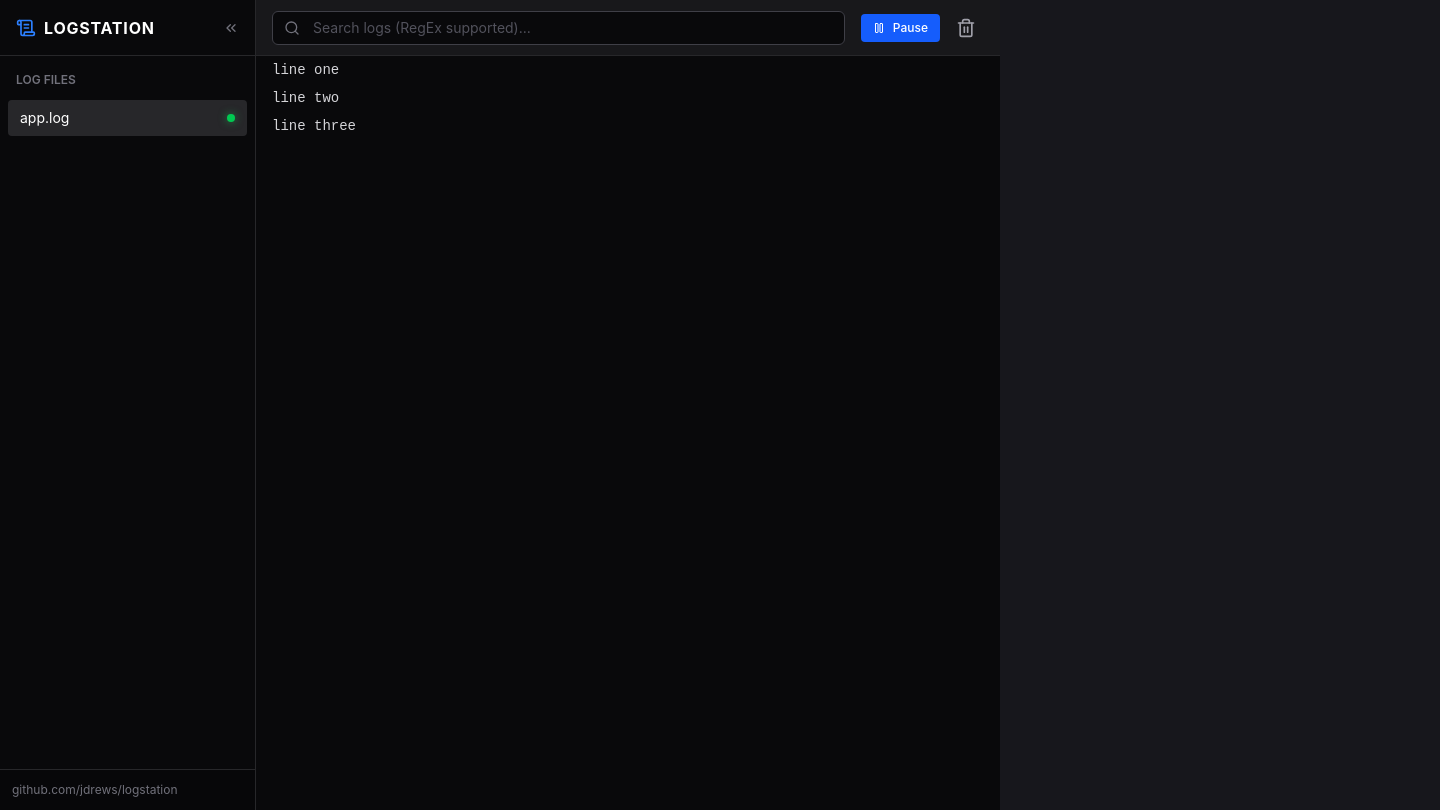
Test: MainLayout › search › navigates to the previous match with the Previous button
This screenshot has width=1440, height=810.
In the field with placeholder "Search logs (RegEx supported)...": (558, 28) [272, 10, 845, 44], type "line"
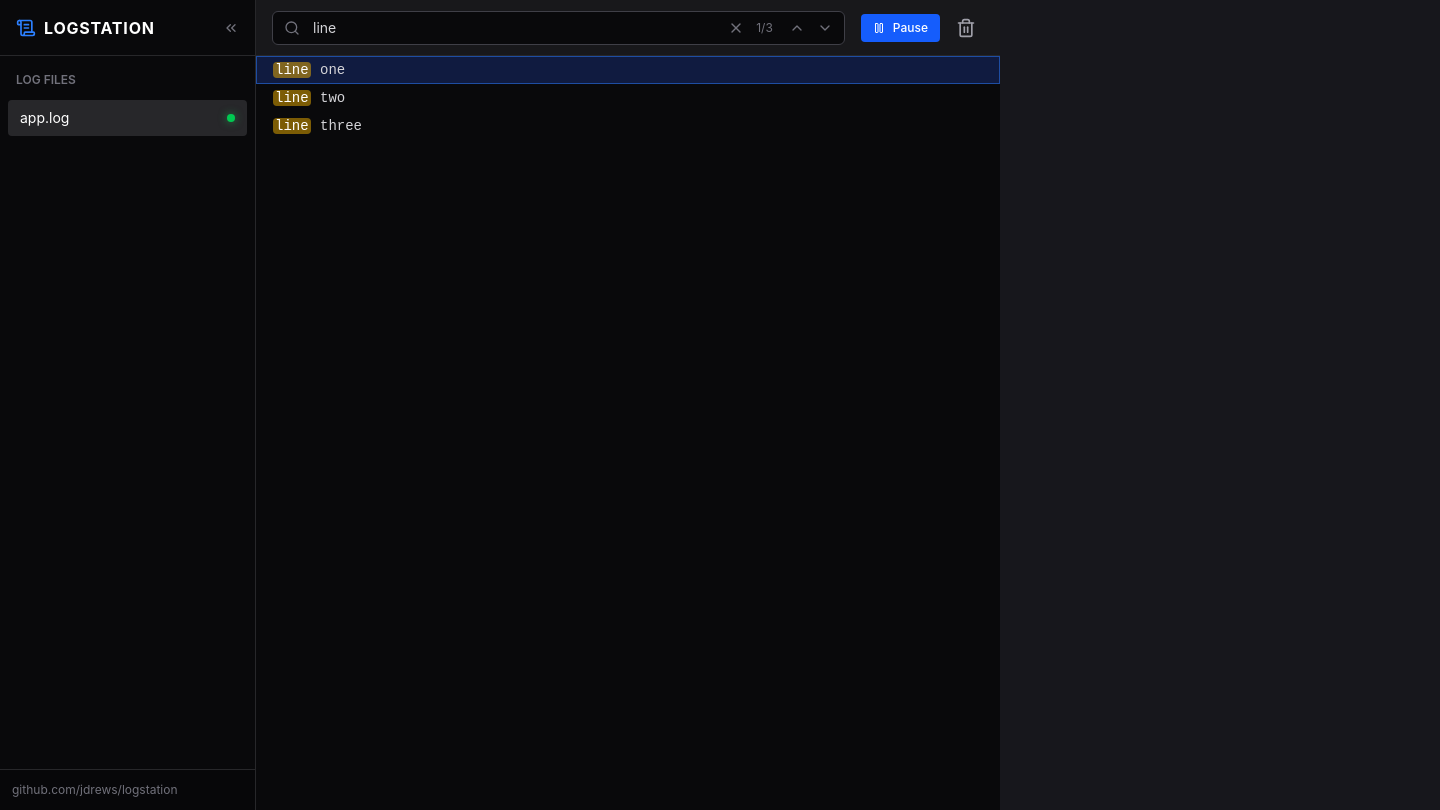
Click the button titled "Next Match": (825, 28) [813, 16, 837, 40]
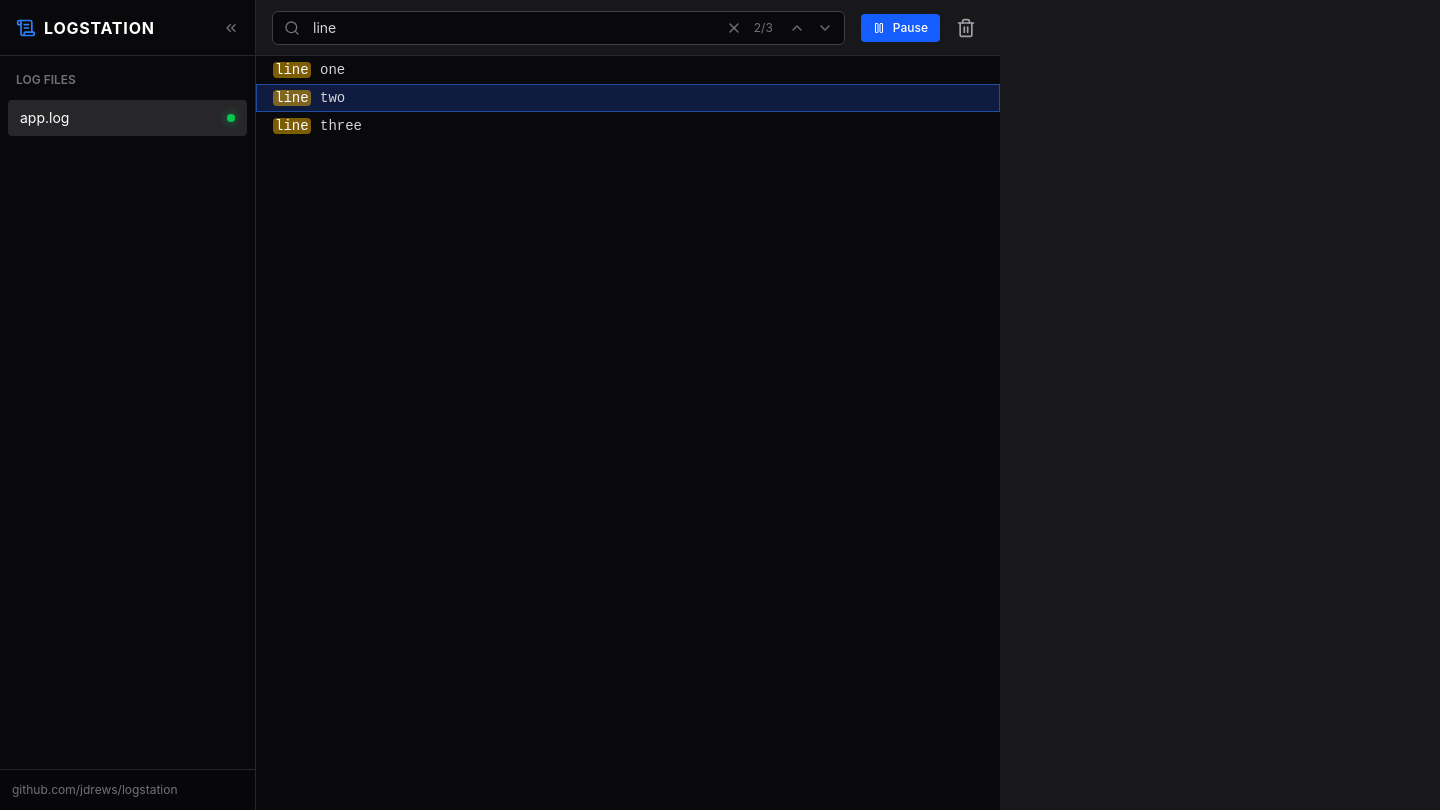
Click the button titled "Previous Match": (797, 28) [785, 16, 809, 40]
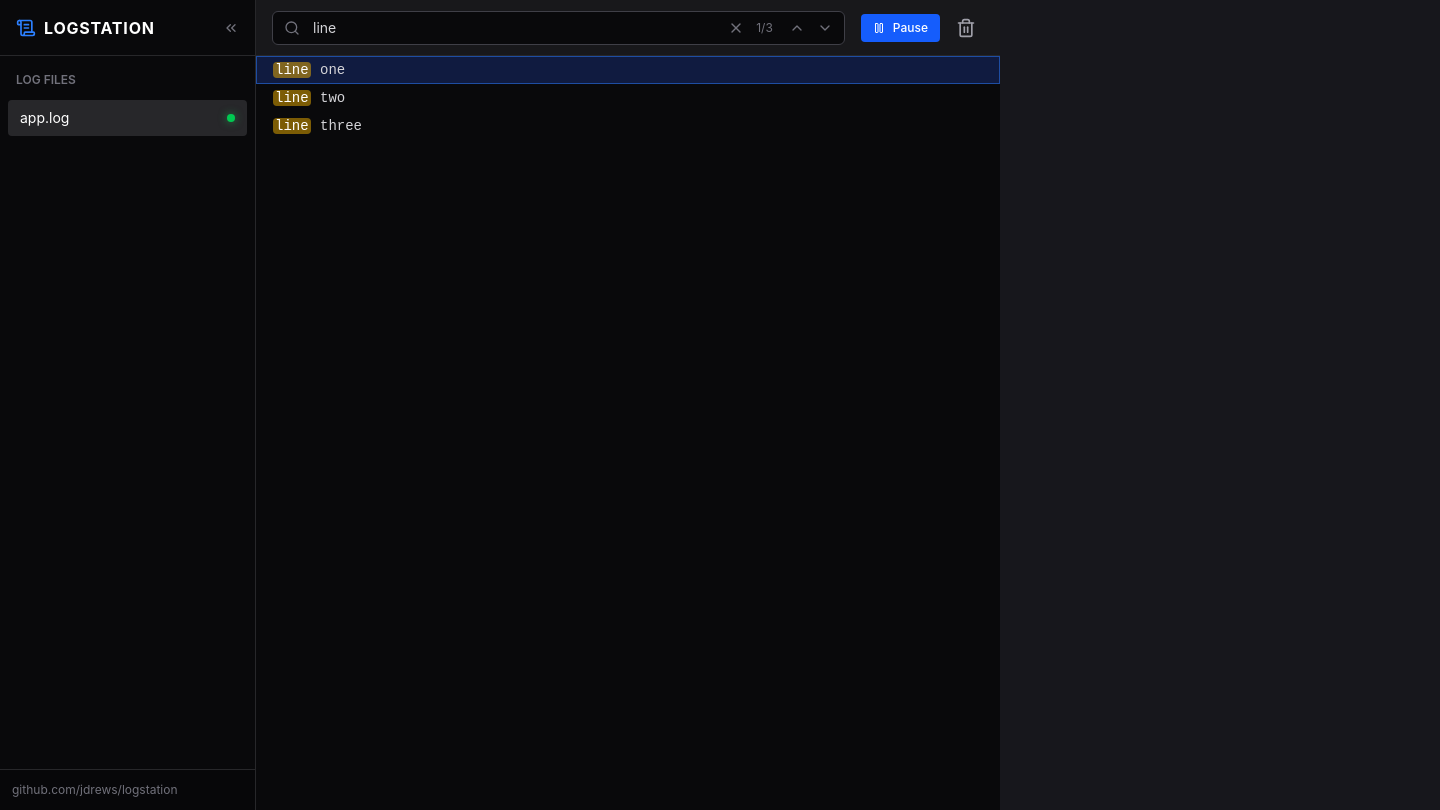
expect the text "1/3" is shown: met, box [756, 20, 773, 36]
